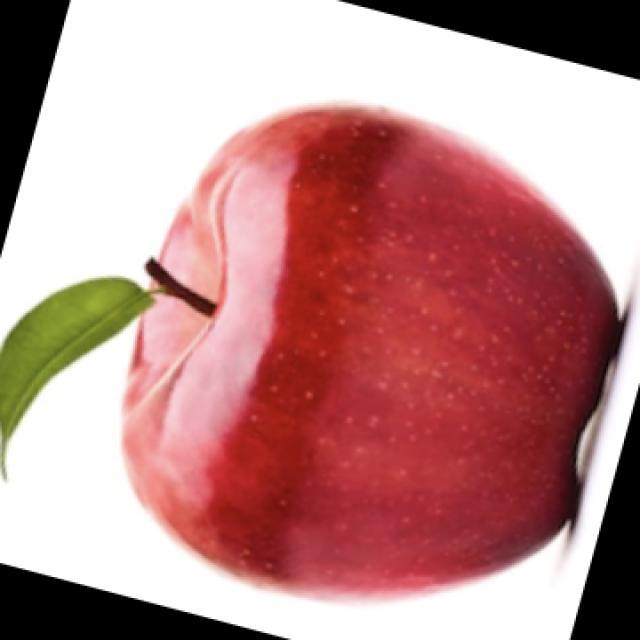Fresh Apple: (172, 128, 610, 572)
